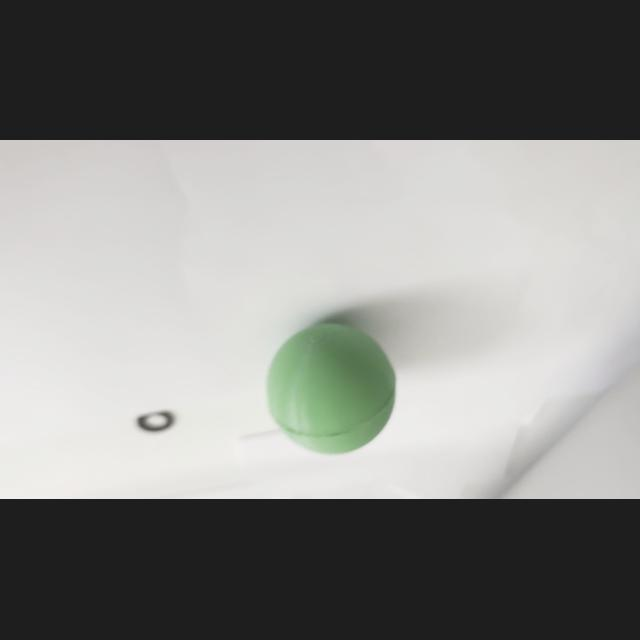objects: (258, 318, 402, 462)
